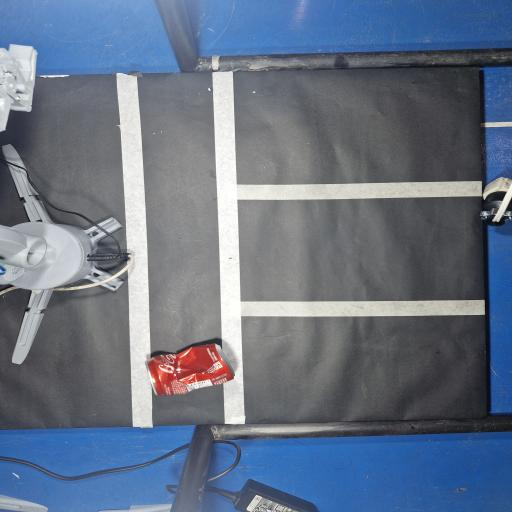lata_defectuoso: (146, 344, 235, 395)
